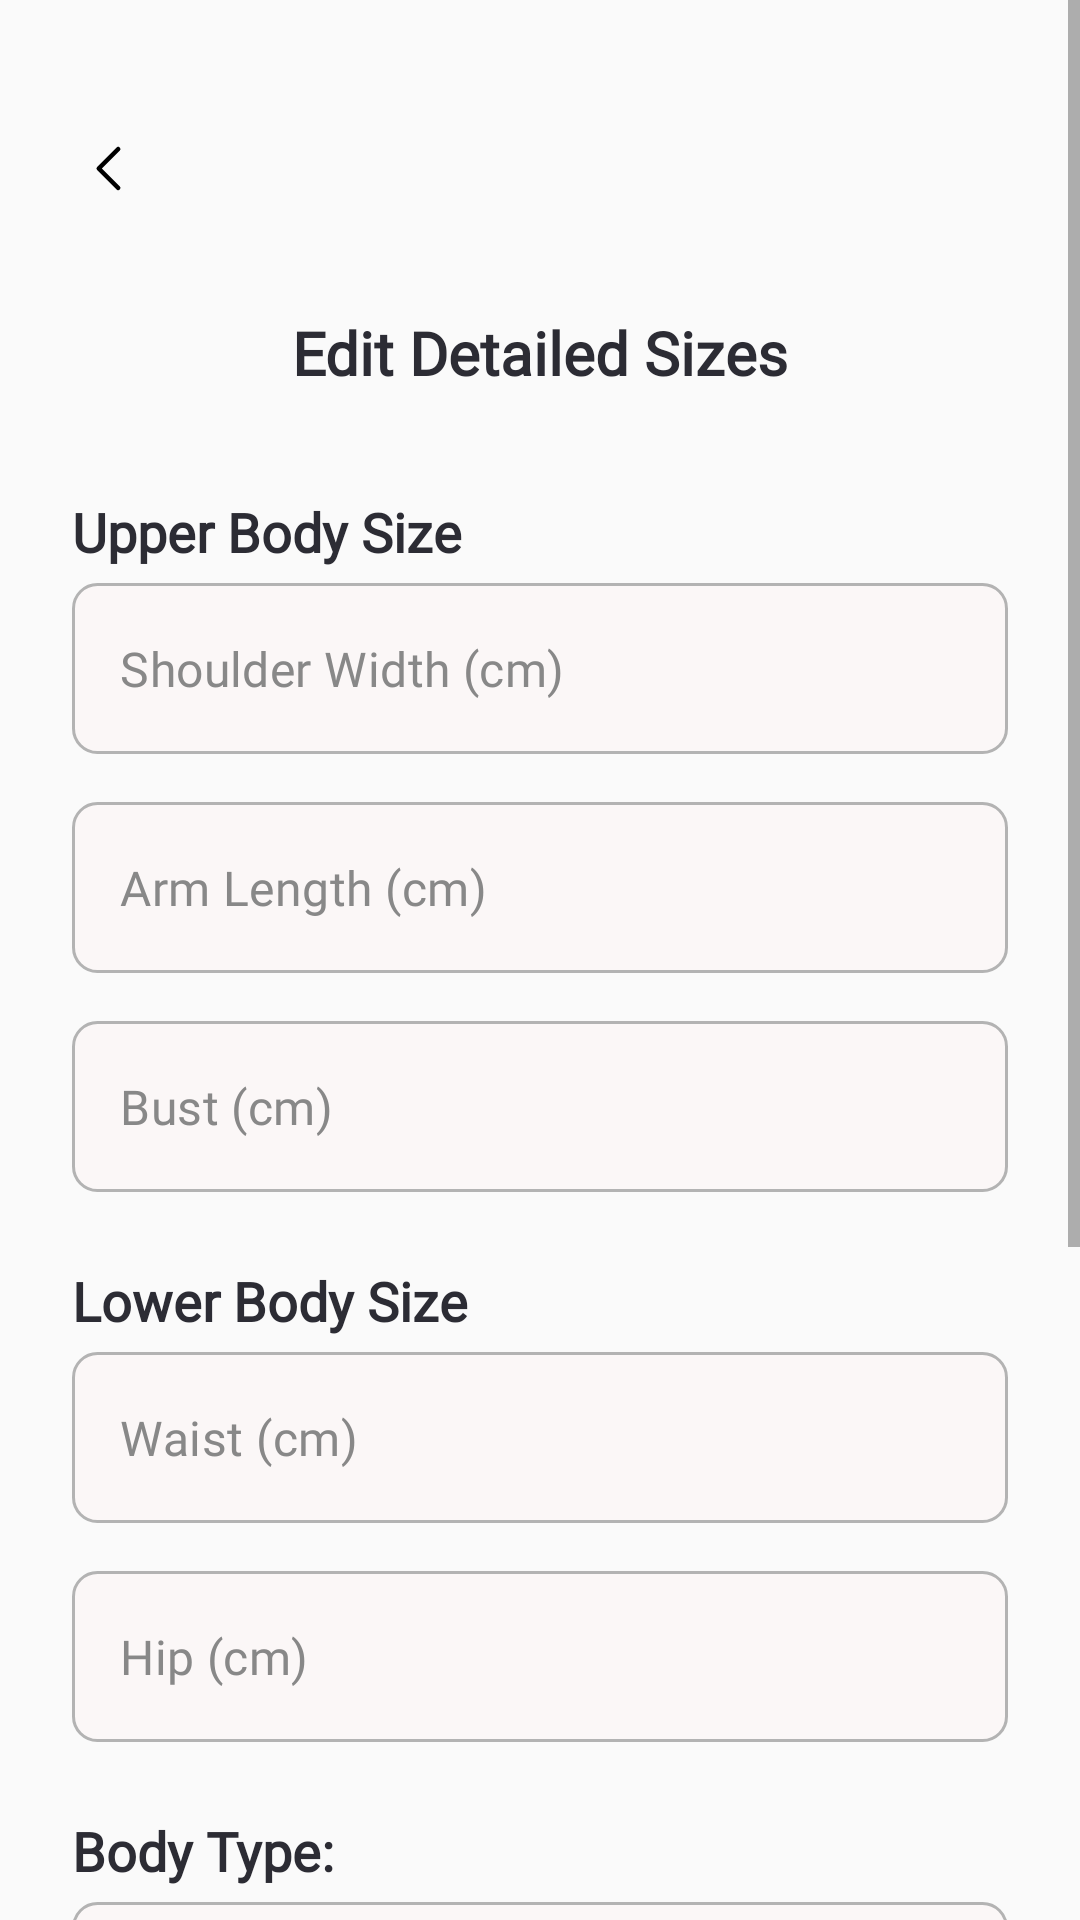

Screen size 1080x1920. Icon name, then its center in pixels as (x,y):
Back: (108,168)
